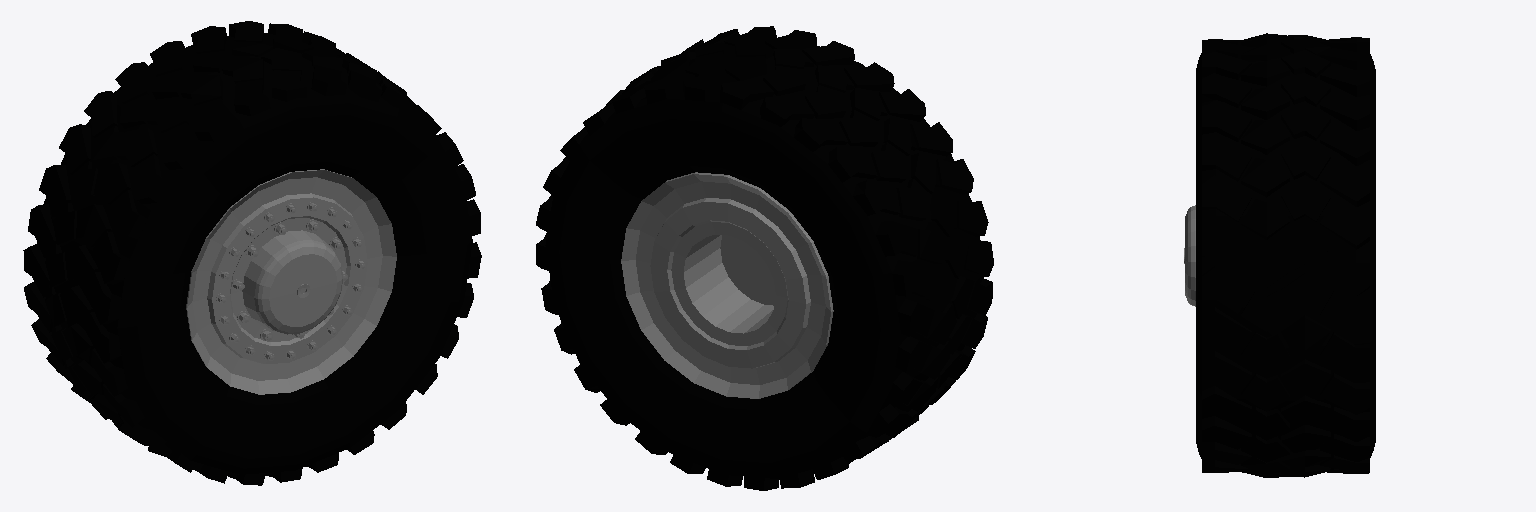
The model's file is mraptirepass2.obj.
3 views of the same model, side by side, from view 1: azimuth 30°, elevation 25°; view 2: azimuth 150°, elevation 25°; view 3: azimuth 270°, elevation 25° (orthographic).
Visible parts, largest first — view 1: pasted__svgMesh13, pCylinder39 pCylinder5, pCylinder37, pCylinder38; view 2: pasted__svgMesh13, pCylinder40; view 3: pasted__svgMesh13, pCylinder39 pCylinder5.
Boxes of the visible parts, x1=… form: pasted__svgMesh13: x1=23, y1=21, x2=481, y2=485; pCylinder39 pCylinder5: x1=186, y1=169, x2=396, y2=394; pCylinder37: x1=216, y1=202, x2=365, y2=360; pCylinder38: x1=232, y1=219, x2=347, y2=341; pasted__svgMesh13: x1=536, y1=26, x2=993, y2=490; pCylinder40: x1=621, y1=172, x2=833, y2=398; pasted__svgMesh13: x1=1196, y1=33, x2=1375, y2=477; pCylinder39 pCylinder5: x1=1184, y1=205, x2=1195, y2=306.
Bounding box in the file's own units: 3.19 × 3.2 × 1.38.